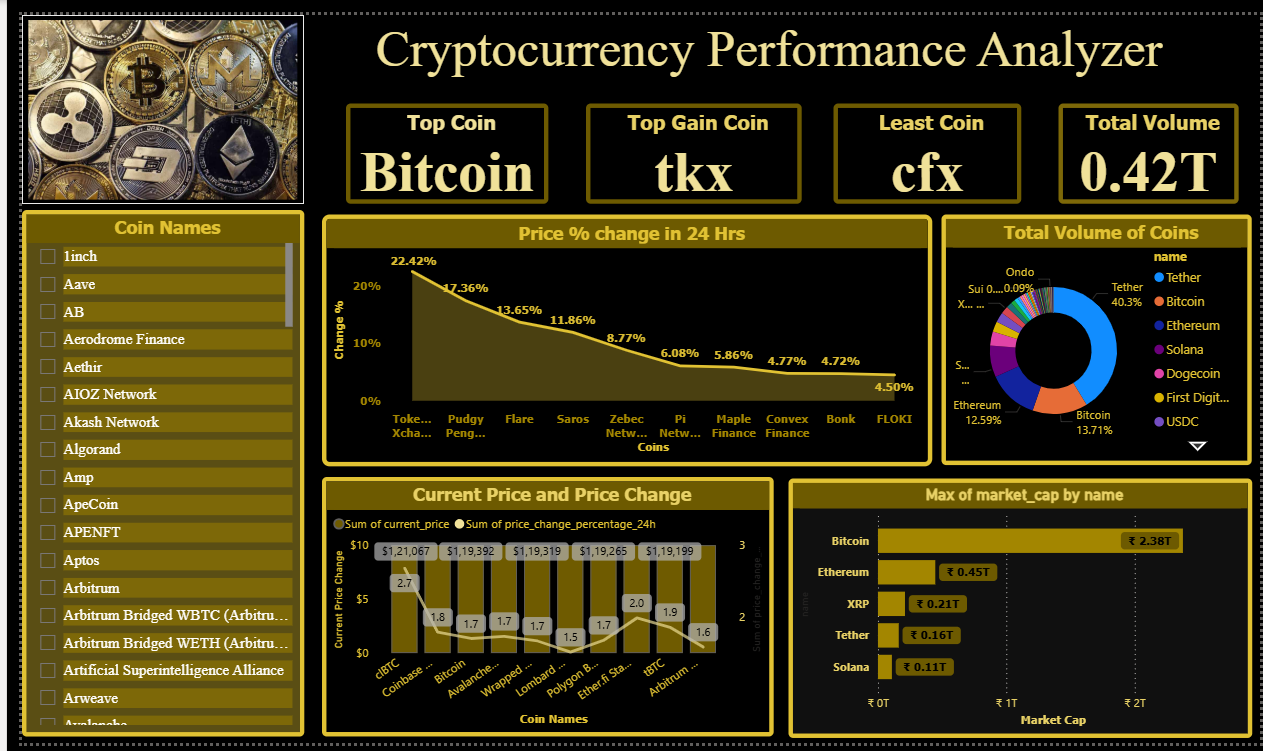

The dashboard page shown, as its layout file describes it:
{"tool":"powerbi","page":{"name":"Page 1","canvas":[1301,765],"ordinal":0},"visuals":[{"type":"image","box":[0,0,296,199.2],"z":0},{"type":"slicer","title":"Coin Names","fields":{"Values":["markets?vs_currency=usd.name"]},"box":[0,204.9,296.4,553.3],"z":1000},{"type":"lineStackedColumnComboChart","title":"Current Price and Price Change","fields":{"Y":["Sum(markets?vs_currency=usd.current_price)"],"Y2":["Sum(markets?vs_currency=usd.price_change_percentage_24h)"],"Category":["CryptoData.name"]},"box":[315.3,485.5,474.5,272.7],"z":2000},{"type":"barChart","fields":{"Category":["markets?vs_currency=usd.name"],"Y":["Max(markets?vs_currency=usd.market_cap)"]},"box":[805.5,487.1,487.1,272.7],"z":3000},{"type":"card","title":"Top Coin","fields":{"Values":["CryptoData.Top Coin by Market Cap"]},"box":[340.5,93,212.8,105.6],"z":4000},{"type":"card","title":"Top Gain Coin","fields":{"Values":["CryptoData.Top Gainer Coin"]},"box":[592.7,93,227,105.6],"z":5000},{"type":"card","title":"Least Coin","fields":{"Values":["CryptoData.Top Loser Coin"]},"box":[852.8,93,197,105.6],"z":6000},{"type":"card","title":"Total Volume","fields":{"Values":["CryptoData.Total Volume"]},"box":[1089.2,93,189.2,105.6],"z":7000},{"type":"donutChart","title":"Total Volume of Coins","fields":{"Category":["CryptoData.name"],"Y":["Sum(CryptoData.total_volume)"]},"box":[966.3,209.7,326.3,263.2],"z":8000},{"type":"lineChart","title":"Price % change in 24 Hrs","fields":{"Category":["CryptoData.name"],"Y":["Sum(CryptoData.price_change_percentage_24h)"]},"box":[315.3,209.7,641.6,264.8],"z":9000},{"type":"textbox","box":[340.5,0,889.1,82],"z":10000}]}

Visuals, with their boxes in screenshot pixels (x1, y1, x2, y2), scaled from the page's 1301x765 canvas onto the 1263x751 screenshot:
image: <region>0, 0, 287, 196</region>
"Coin Names" slicer: <region>0, 201, 288, 744</region>
"Current Price and Price Change" lineStackedColumnComboChart: <region>306, 477, 767, 744</region>
barChart - markets?vs_currency=usd.name x Max(markets?vs_currency=usd.market_cap): <region>782, 478, 1255, 746</region>
"Top Coin" card: <region>331, 91, 537, 195</region>
"Top Gain Coin" card: <region>575, 91, 796, 195</region>
"Least Coin" card: <region>828, 91, 1019, 195</region>
"Total Volume" card: <region>1057, 91, 1241, 195</region>
"Total Volume of Coins" donutChart: <region>938, 206, 1255, 464</region>
"Price % change in 24 Hrs" lineChart: <region>306, 206, 929, 466</region>
textbox: <region>331, 0, 1194, 80</region>
